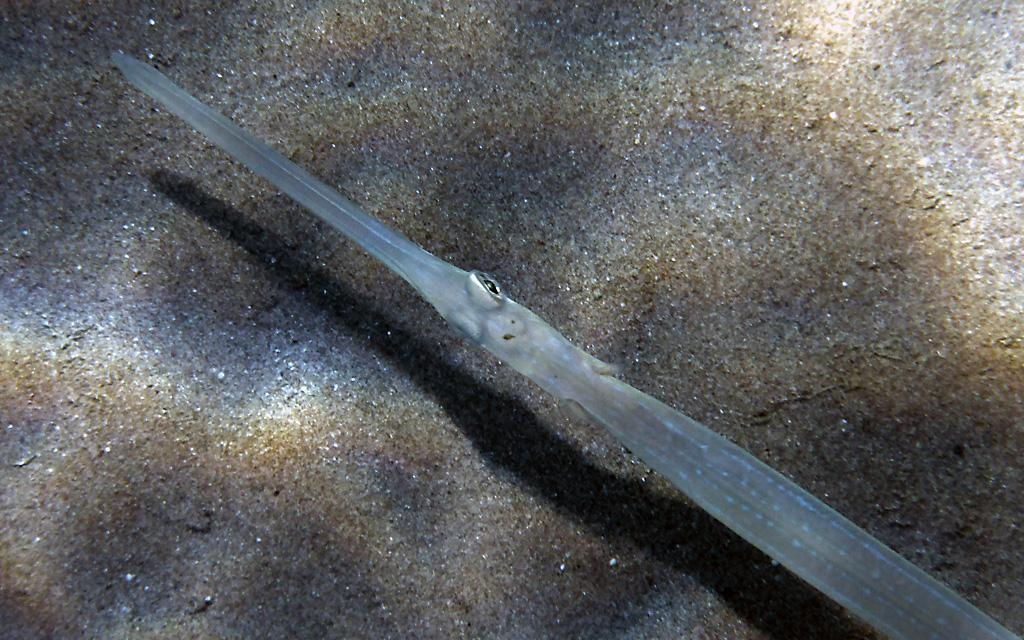Fistularia commersonii: (105, 43, 1018, 637)
